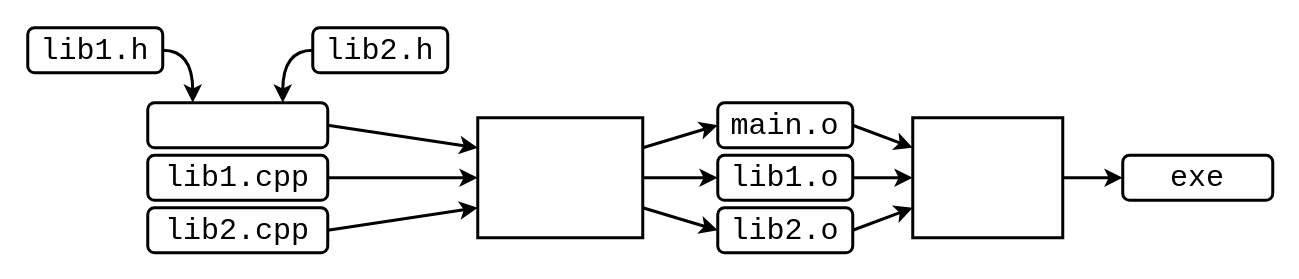
Some shapes in this 1299 by 279 pixel diagram are drawn without their labels. Each missing label, with the centre of its shape:
"C++ compiler" belongs at point 560,177.
"linker" belongs at point 987,177.
"main.cpp" belongs at point 237,124.
